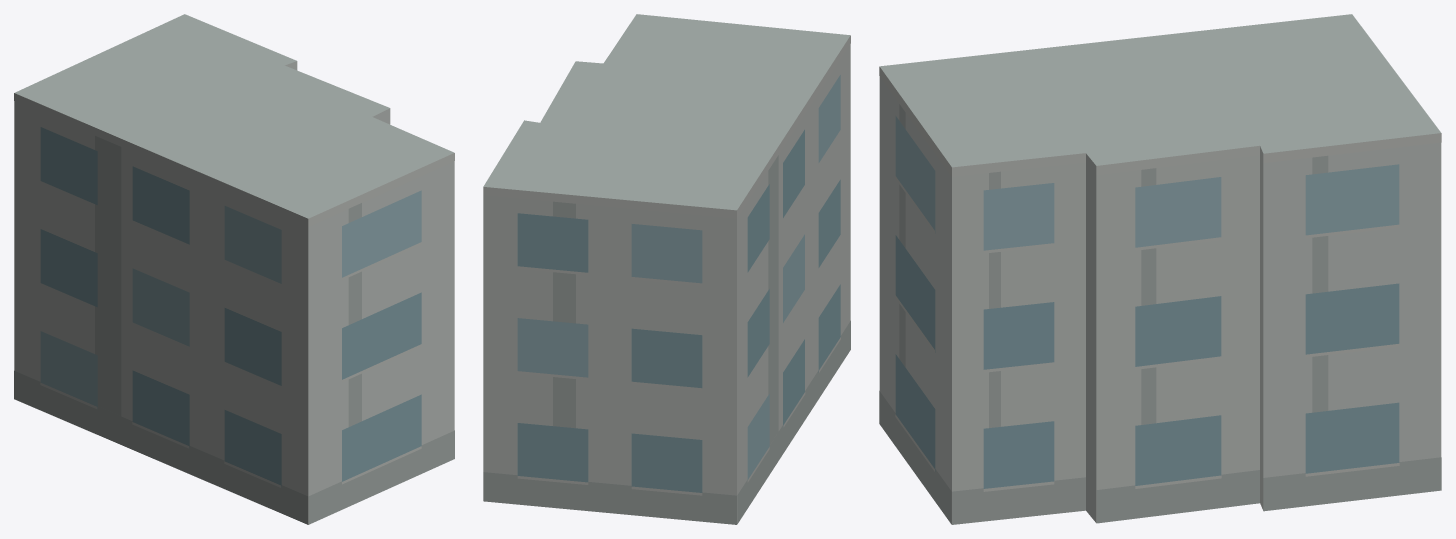
The model's file is residential-fdd3beef-7171-420b-bef3-332a4c85b68c.glb.
3 views of the same model, side by side, from view 1: azimuth 30°, elevation 25°; view 2: azimuth 150°, elevation 25°; view 3: azimuth 270°, elevation 25° (orthographic). The views are drawn at different scales.
Parts seen in each view (by area): view 1: residential-fdd3beef-7171-420b-bef3-332a4c85b68c.tmp; view 2: residential-fdd3beef-7171-420b-bef3-332a4c85b68c.tmp; view 3: residential-fdd3beef-7171-420b-bef3-332a4c85b68c.tmp.
Boxes of the visible parts, left/top/right/bottom form: residential-fdd3beef-7171-420b-bef3-332a4c85b68c.tmp: left=14, top=14, right=454, bottom=524; residential-fdd3beef-7171-420b-bef3-332a4c85b68c.tmp: left=483, top=14, right=850, bottom=524; residential-fdd3beef-7171-420b-bef3-332a4c85b68c.tmp: left=879, top=14, right=1441, bottom=524.
Size of the model in its own units: 8.43 by 9.15 by 13.05.
